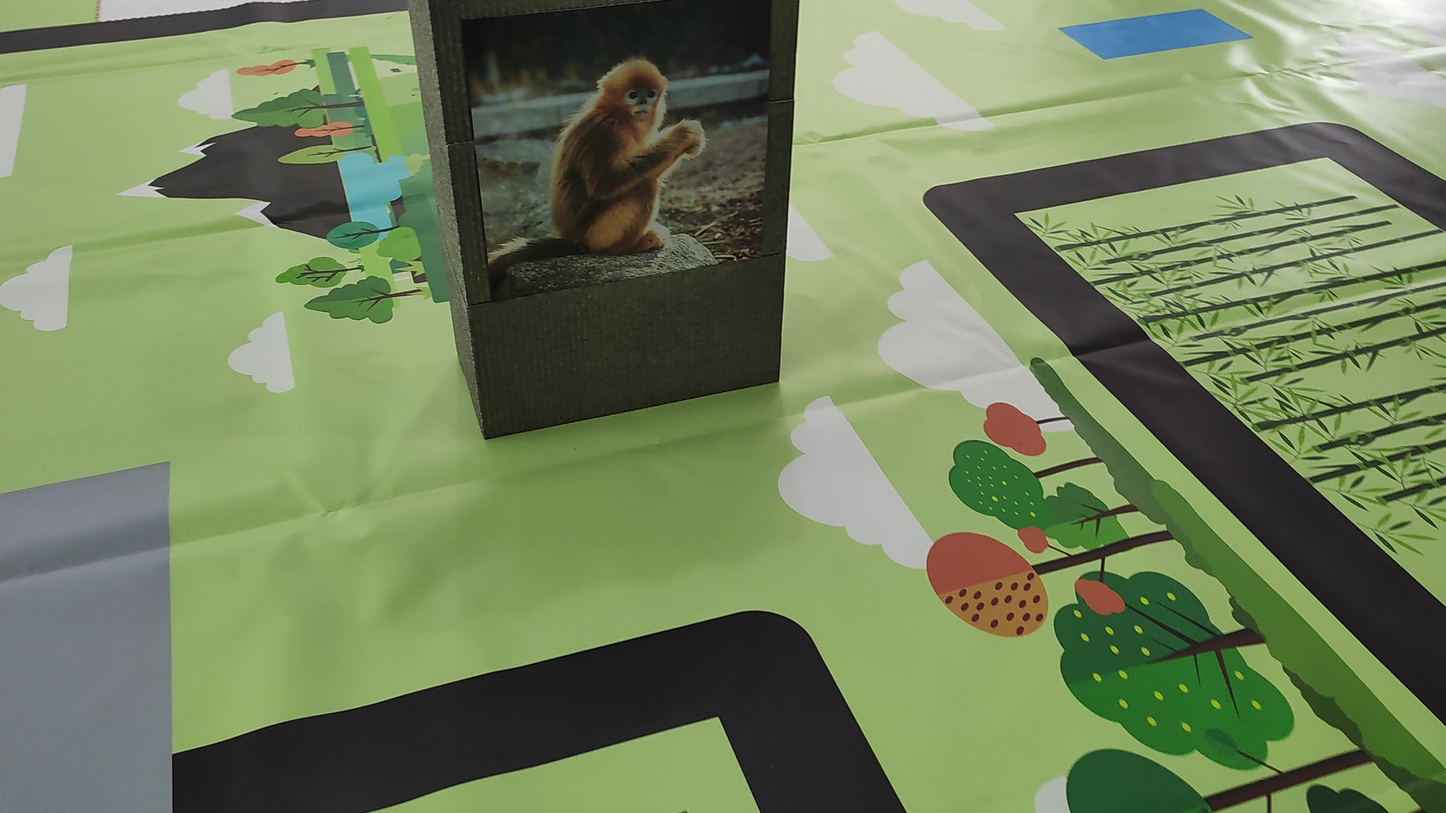monkey: (479, 32, 732, 303)
